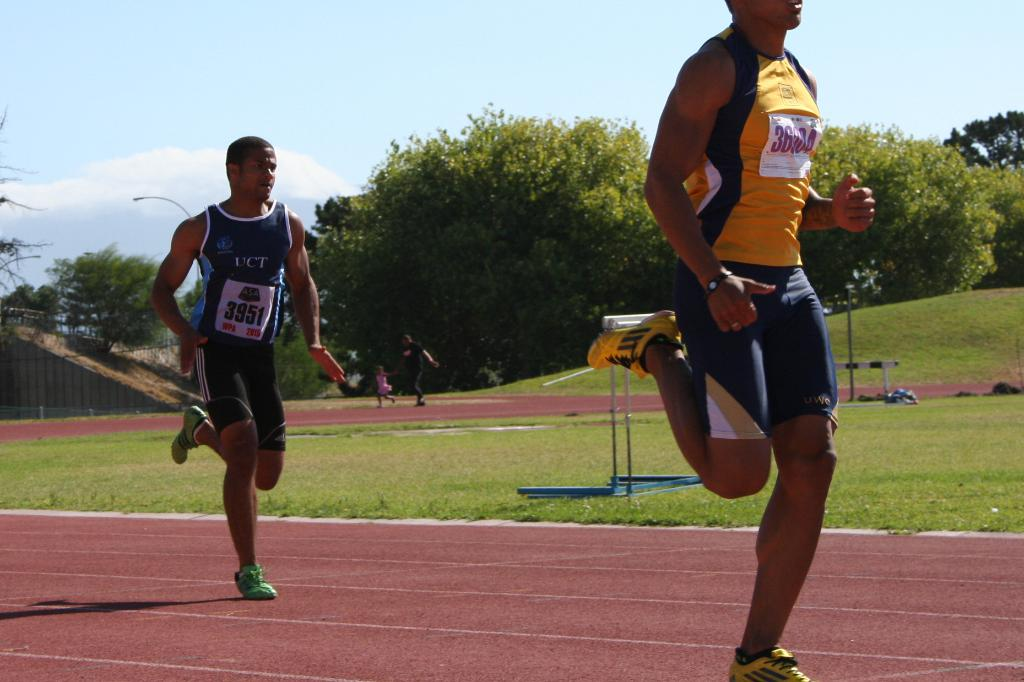face: (739, 0, 809, 25)
